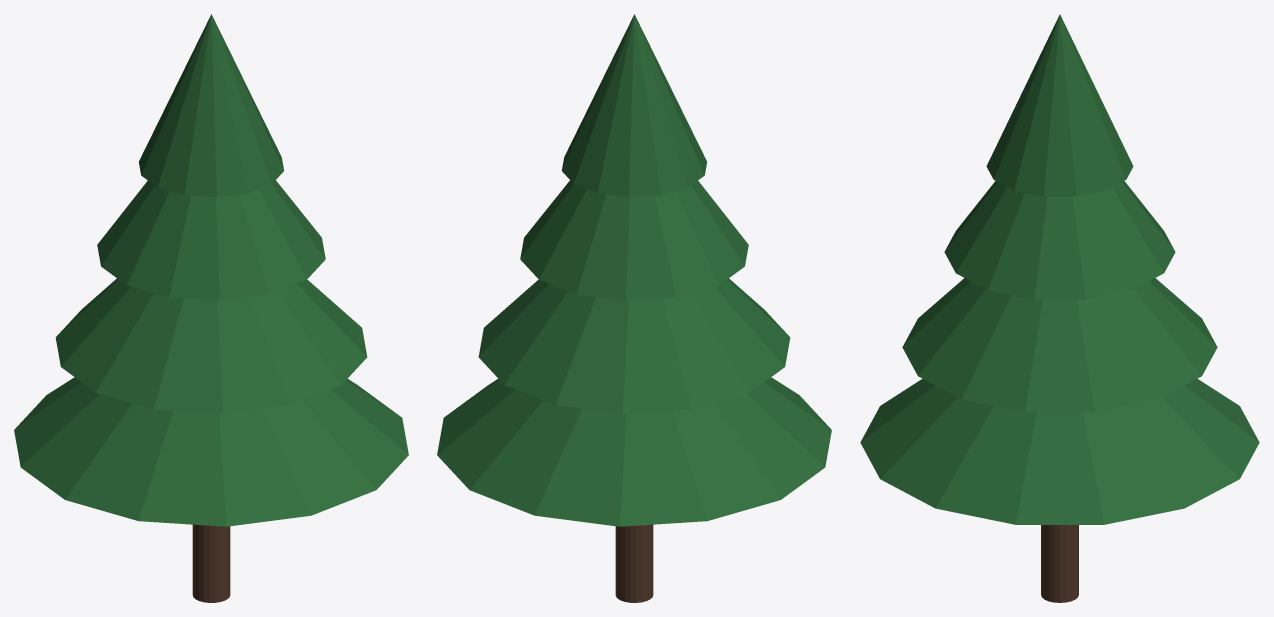
File: tree_pine.glb
The picture shows the model from 3 angles, left to right: view 1: azimuth 30°, elevation 25°; view 2: azimuth 150°, elevation 25°; view 3: azimuth 270°, elevation 25°; orthographic projection.
Visible parts, largest first — view 1: Cone, Cylinder; view 2: Cone, Cylinder; view 3: Cone, Cylinder.
Boxes of the visible parts, bbox=[...] form: Cone: bbox=[14, 14, 408, 526]; Cylinder: bbox=[192, 524, 230, 602]; Cone: bbox=[437, 14, 831, 526]; Cylinder: bbox=[615, 524, 653, 602]; Cone: bbox=[860, 14, 1259, 524]; Cylinder: bbox=[1041, 525, 1078, 602].
Size of the model in its own units: 3.7 by 6.1 by 3.8.
